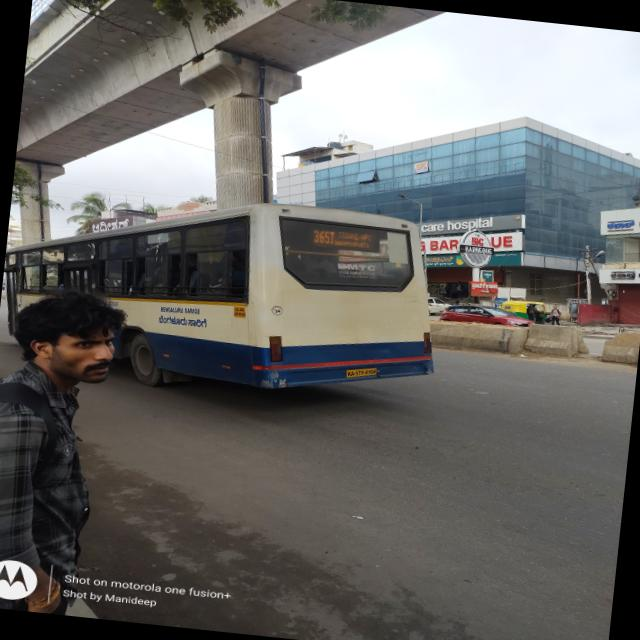bus: (0, 176, 489, 416)
display: (295, 224, 387, 254)
dnumber: (308, 228, 335, 245)
